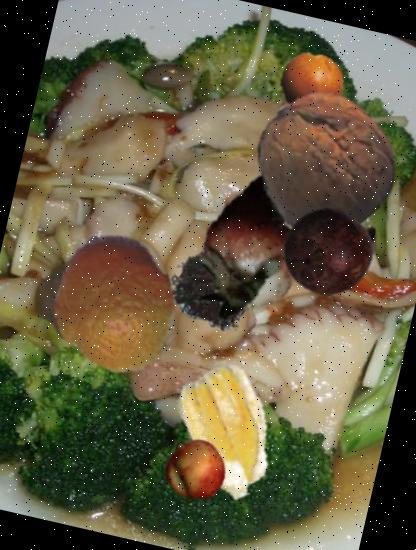Granadilla: (259, 43, 362, 146)
Mandarine: (29, 219, 199, 390)
Mangostan: (272, 196, 387, 310)
Nectarine: (158, 434, 232, 507)
Physalis: (152, 353, 310, 510)
Rambutan: (160, 238, 268, 346)
Strawberry: (162, 168, 324, 328)
Walnut: (239, 79, 407, 247)
